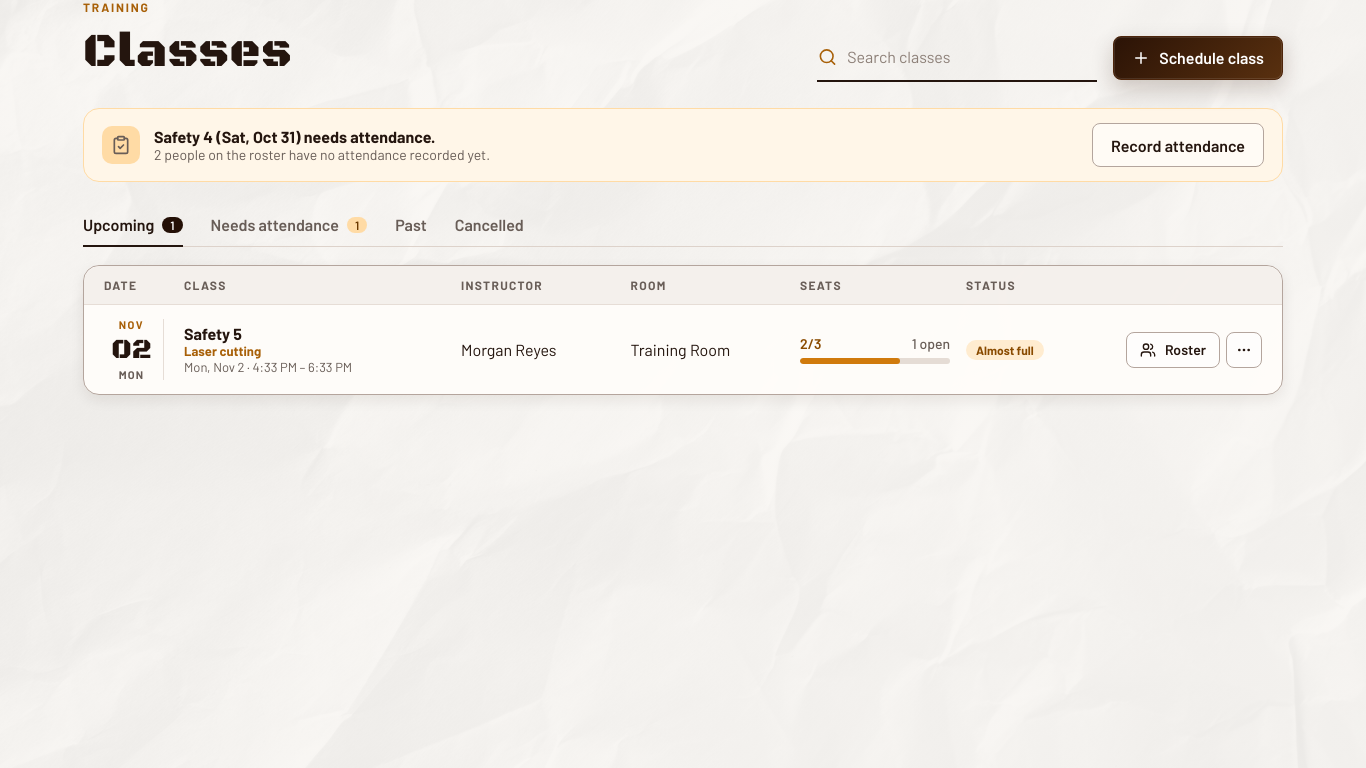
Test: nobody is pre-marked; saving needs a note and only sends chosen people
Click the tab "Past" at (411, 226), box [395,204,427,247]
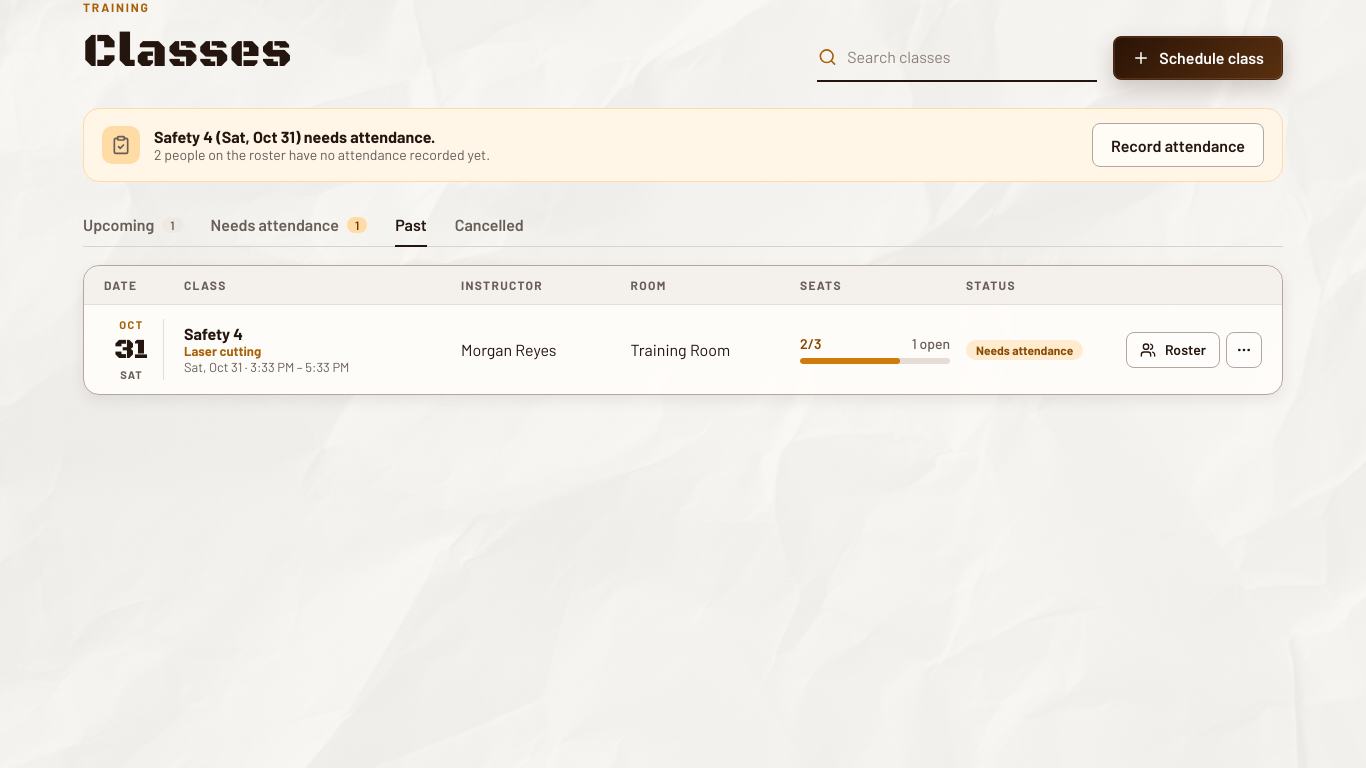
Click the button "Roster" at (1173, 350), box [1126,332,1220,368]
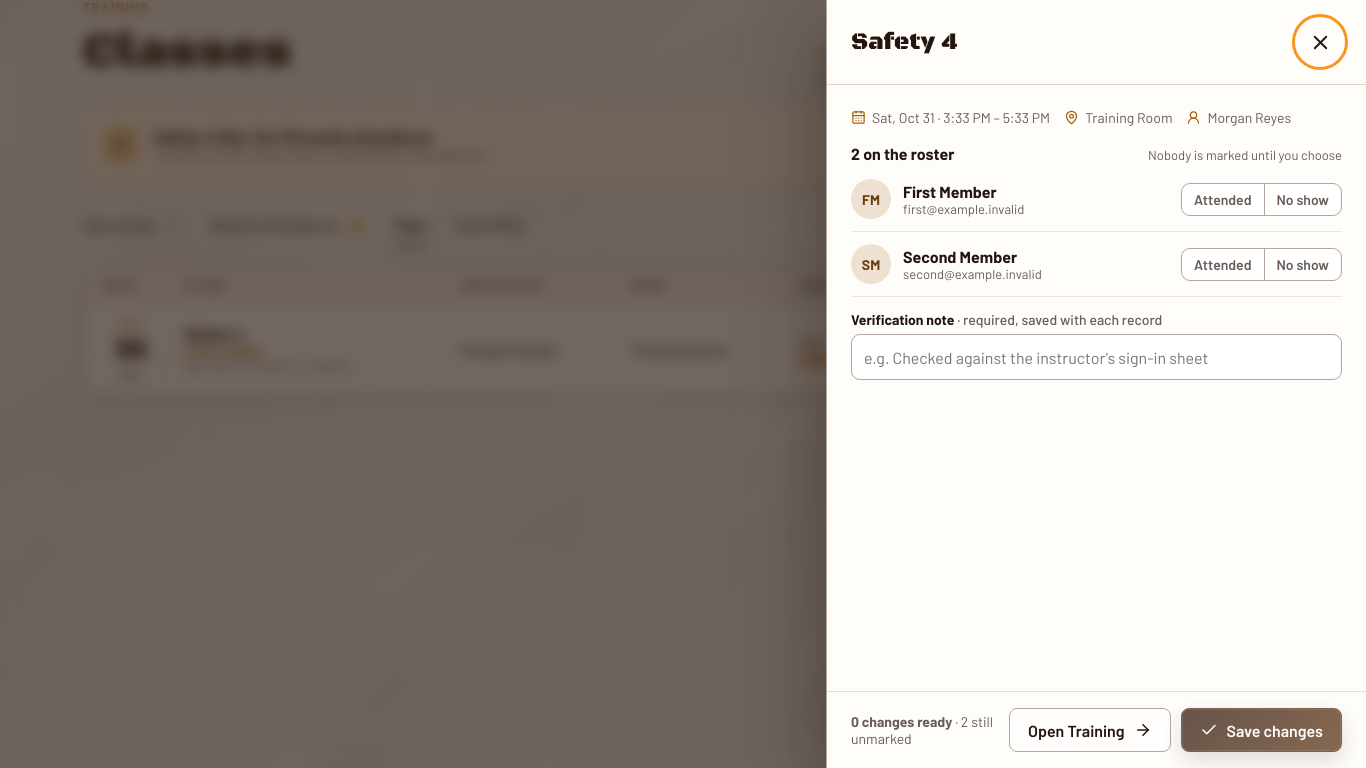
Click the 1st radio button labelled "Attended" at (1223, 199), box [1194,190,1252,208]
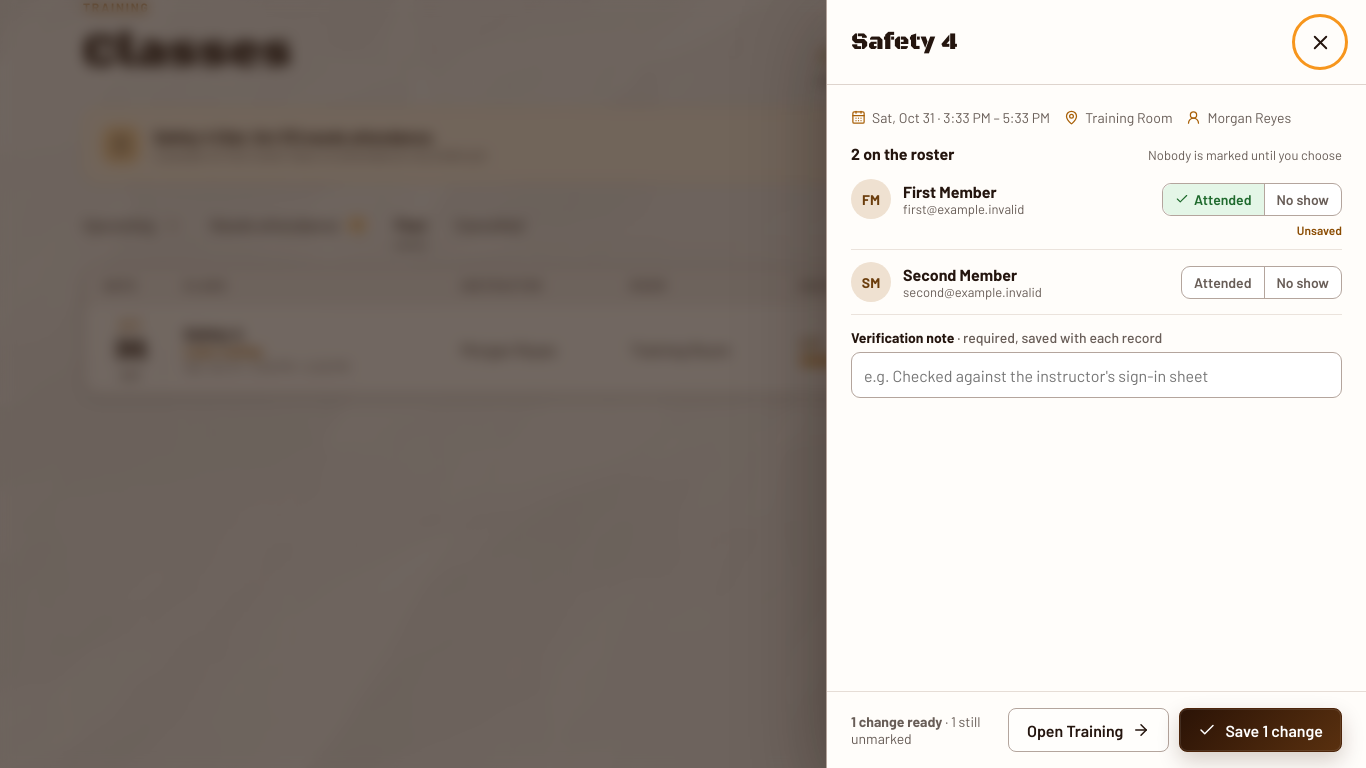
Click the button "Save 1 change" at (1261, 730), box [1179,708,1342,752]
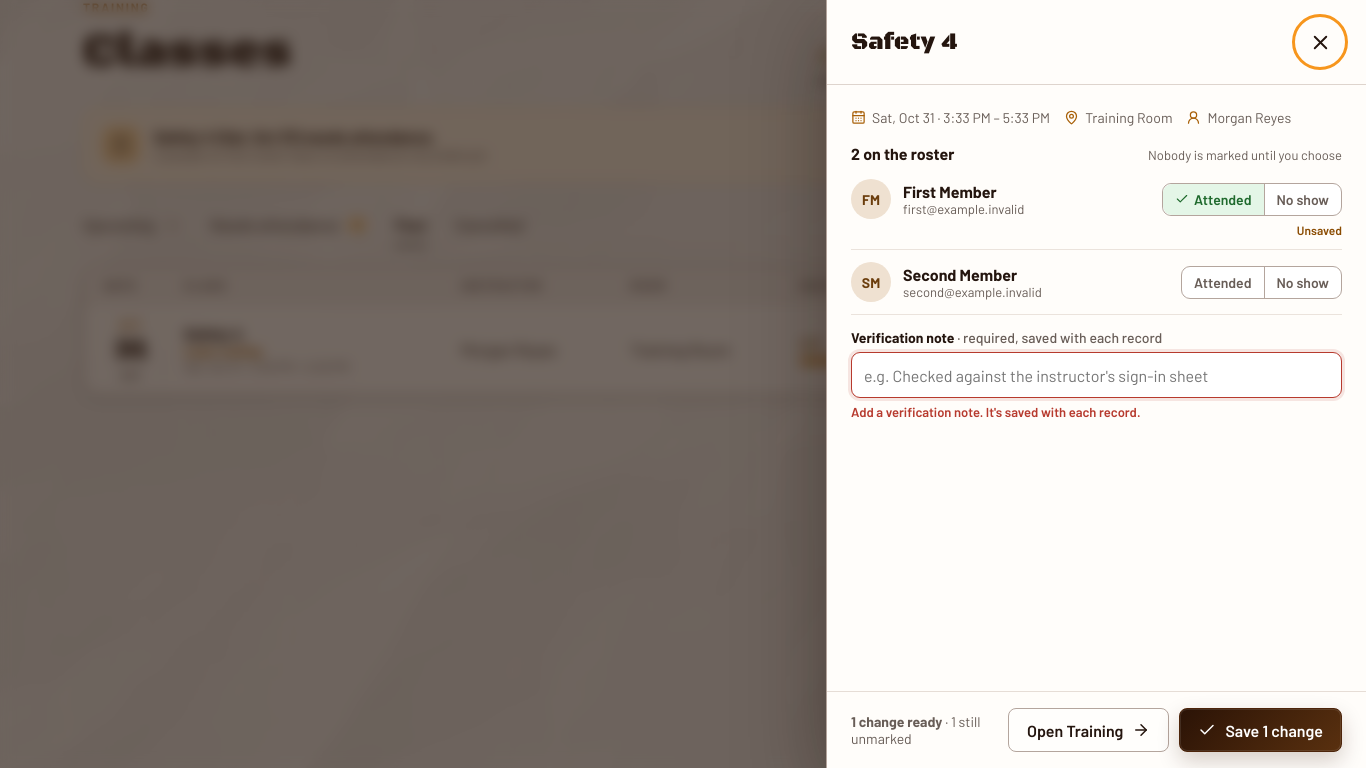
Now the text "Add a verification note. It's saved with each record." is shown, box [851,404,1140,420]
Type "Checked sign-in sheet" into the field labelled "Verification note" at (1096, 375), box [851,352,1342,398]
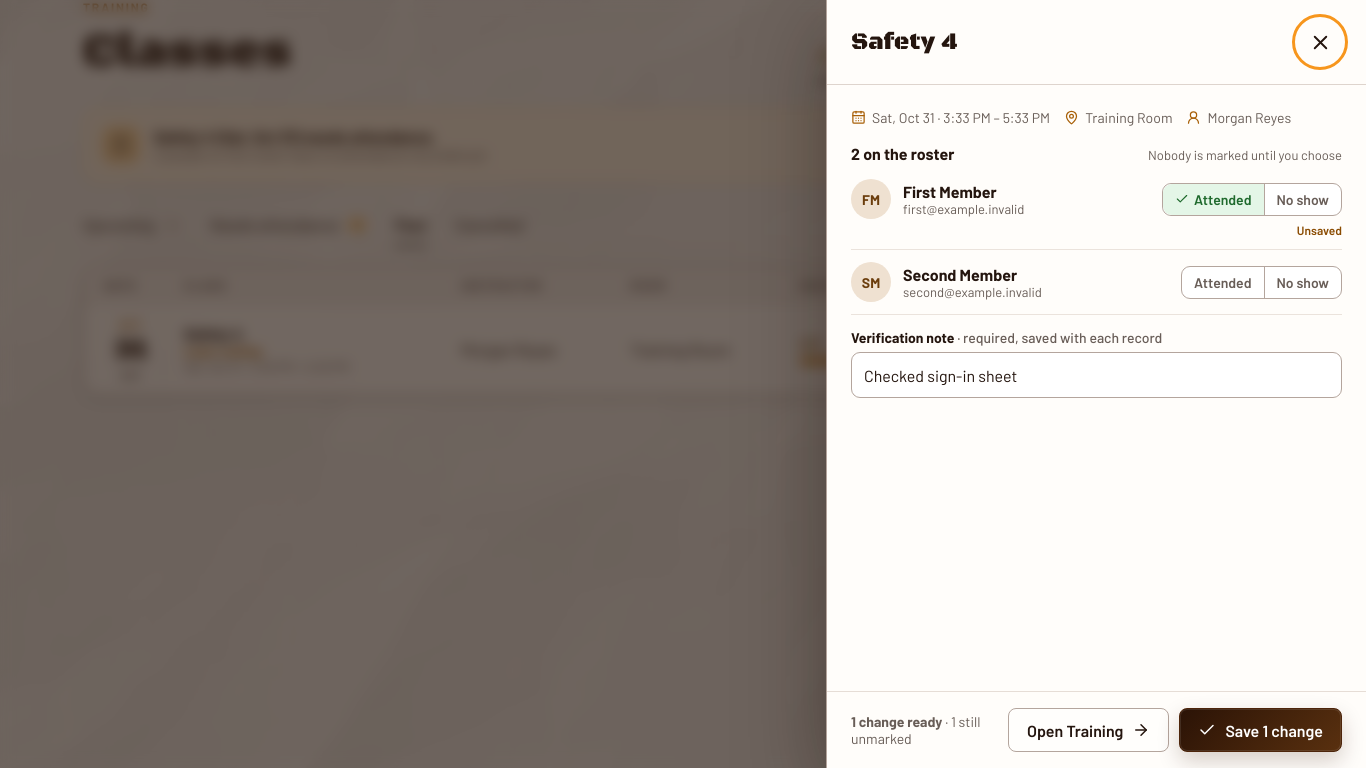
Click the button "Save 1 change" at (1261, 730), box [1179,708,1342,752]
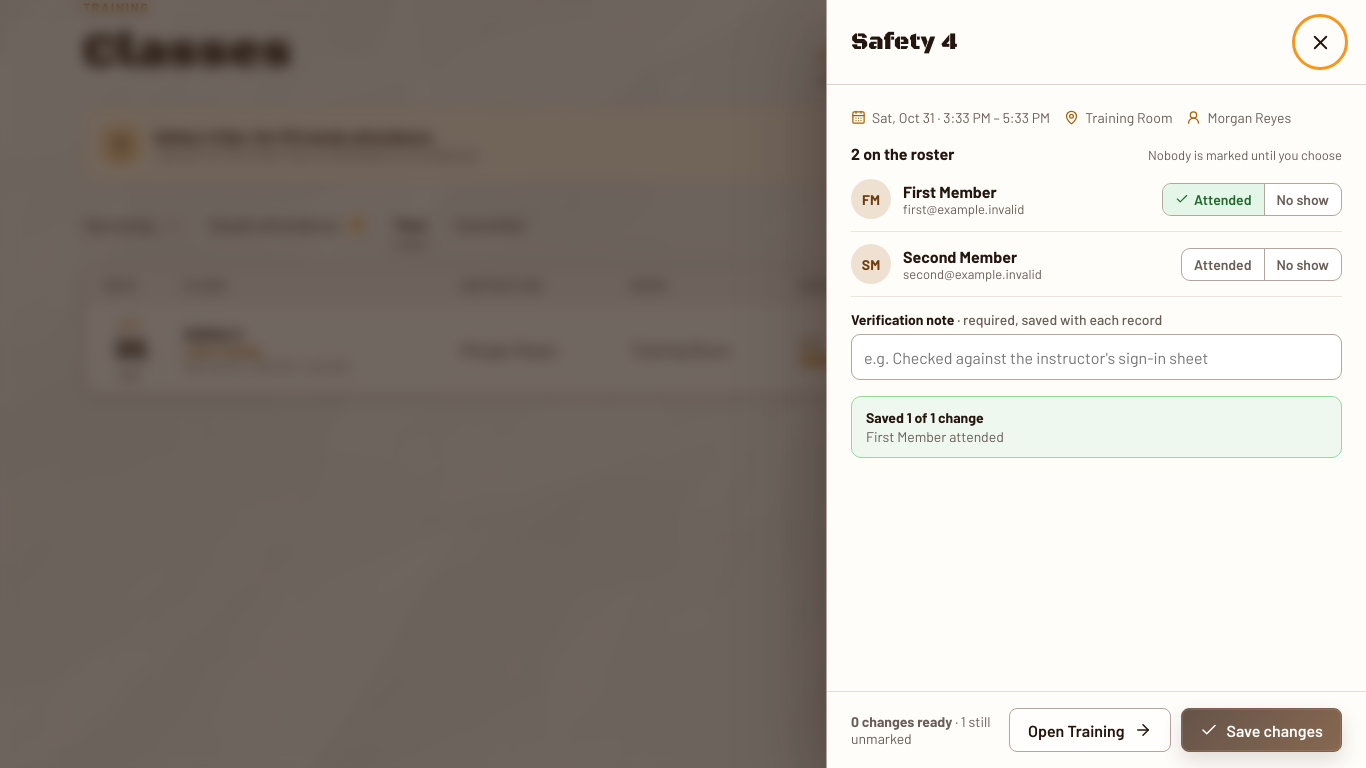
Now the text "Saved 1 of 1 change" is shown, box [866,409,984,426]
